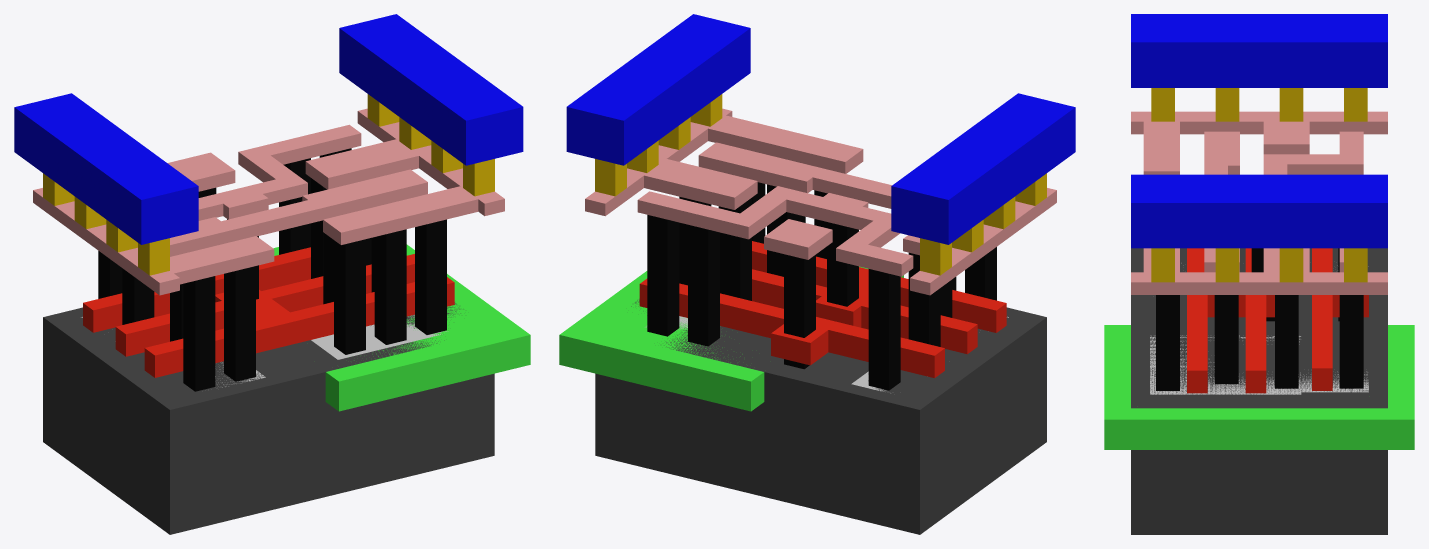
The model's file is sky130_fd_sc_hd__buf_2.obj.
3 renders of one model, left to right at view 1: azimuth 30°, elevation 25°; view 2: azimuth 150°, elevation 25°; view 3: azimuth 270°, elevation 25°, orthographic.
Parts seen in each view (by area): view 1: subs, metal1, li, licon, poly, nwell, mcon, tap; view 2: subs, metal1, li, licon, poly, nwell, mcon; view 3: metal1, subs, li, nwell, licon, poly, mcon, tap.
Boxes of the visible parts, x1,y1,x2,y2 form: subs: (43,302,494,534); metal1: (14,14,523,244); li: (33,108,504,295); licon: (98,148,446,391); poly: (83,247,454,377); nwell: (273,244,530,411); mcon: (43,94,494,275); tap: (311,315,448,359); subs: (595,299,1046,534); metal1: (566,14,1075,244); li: (585,108,1056,295); licon: (647,182,996,390); poly: (639,241,1006,378); nwell: (559,266,903,411); mcon: (595,94,1046,275); metal1: (1131,14,1387,248); subs: (1131,248,1387,534); li: (1131,111,1387,294); nwell: (1104,325,1414,449); licon: (1156,248,1363,390); poly: (1187,248,1368,393); mcon: (1151,88,1367,282); tap: (1150,335,1368,394).
Bounding box in the file's own units: 3.2 × 2.74 × 2.22.
